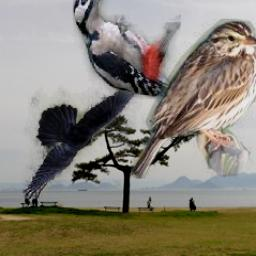Crow: (24, 71, 145, 199)
Sparrow: (132, 20, 256, 180)
Woodpecker: (74, 0, 182, 99)
